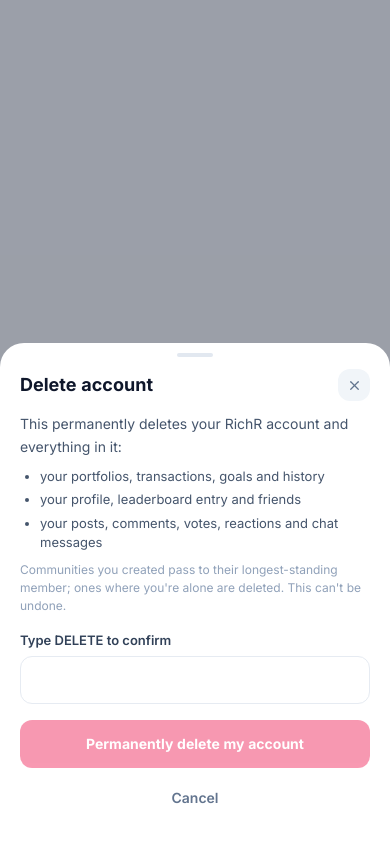
Scenario: moderation › account deletion needs DELETE typed
This screenshot has width=390, height=844.
Expected: the button "Permanently delete my account" is disabled, x1=20 y1=720 x2=370 y2=768
Type "delete" into the field named "type delete" at (195, 680), box x1=20 y1=656 x2=370 y2=704
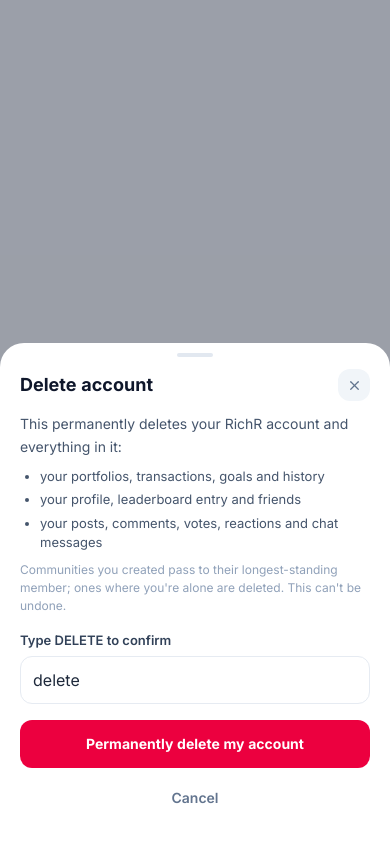
Expected: the button "Permanently delete my account" is enabled, x1=20 y1=720 x2=370 y2=768
